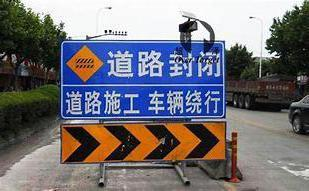sign: (60, 40, 226, 161)
